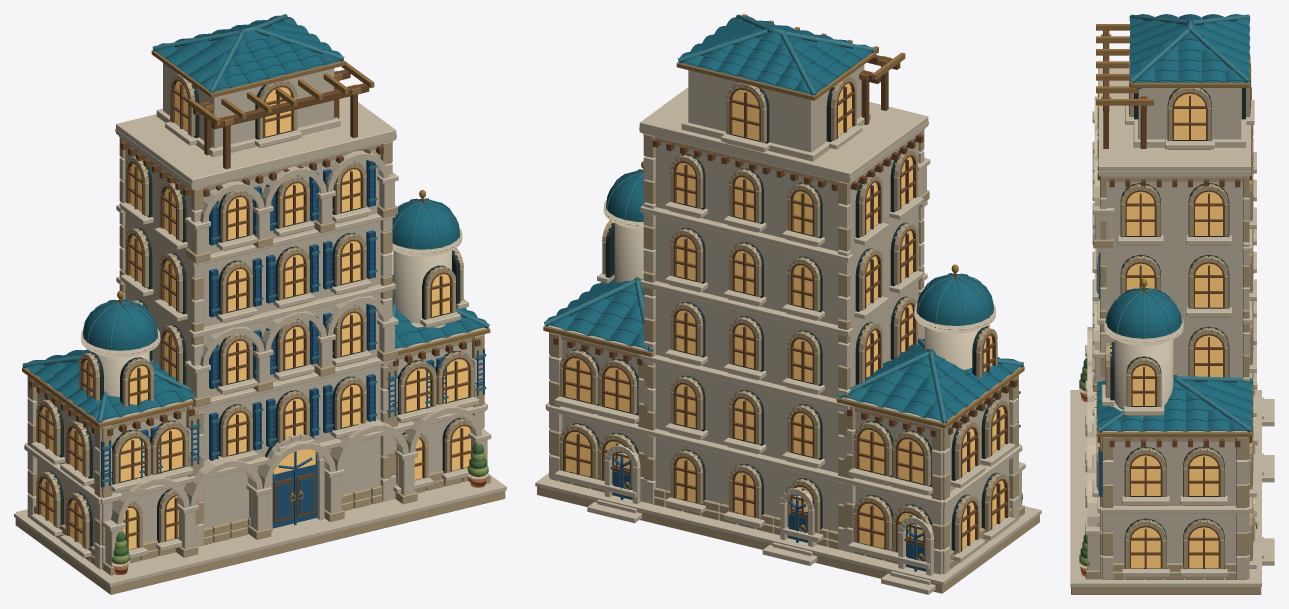
3 renders of one model, left to right at view 1: azimuth 30°, elevation 25°; view 2: azimuth 150°, elevation 25°; view 3: azimuth 270°, elevation 25°, orthographic. The views are drawn at different scales.
Visible parts, largest first — view 1: harbor_skyscraper_3_geometry; view 2: harbor_skyscraper_3_geometry; view 3: harbor_skyscraper_3_geometry.
Boxes of the visible parts, x1=… form: harbor_skyscraper_3_geometry: x1=14, y1=14, x2=506, y2=594; harbor_skyscraper_3_geometry: x1=535, y1=14, x2=1041, y2=594; harbor_skyscraper_3_geometry: x1=1070, y1=14, x2=1274, y2=594.
Size of the model in its own units: 2.27 by 2.6 by 1.01.
